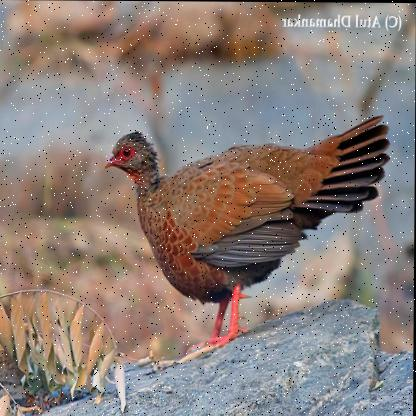Burung: (106, 131, 384, 337)
